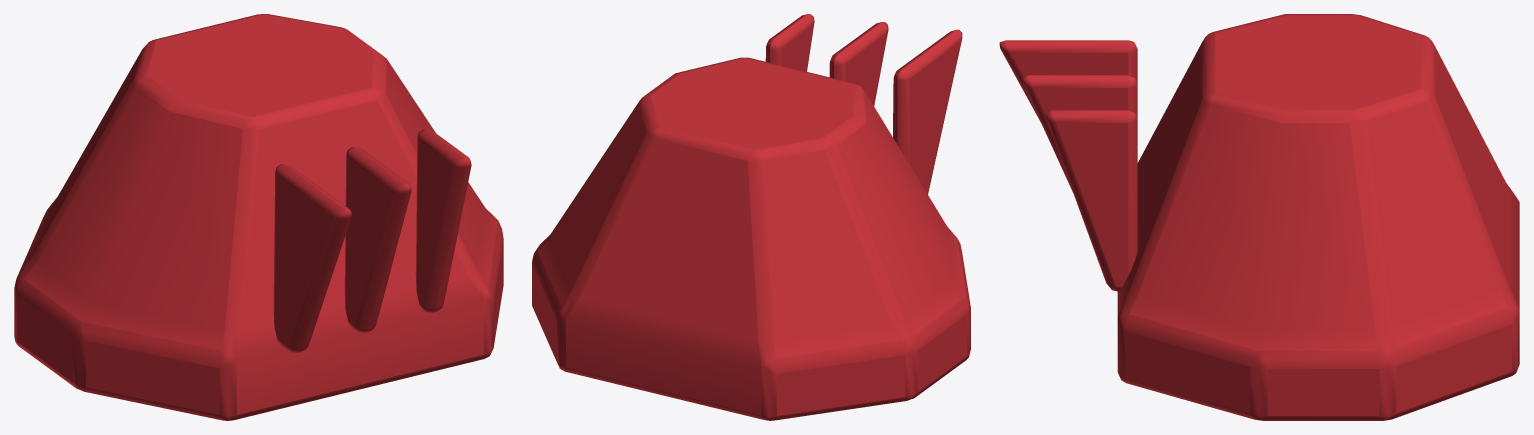
The model's file is AnimalHeadBack_Set05_Afterburn.fbx.
3 views of the same model, side by side, from view 1: azimuth 30°, elevation 25°; view 2: azimuth 150°, elevation 25°; view 3: azimuth 270°, elevation 25° (orthographic). The views are drawn at different scales.
Parts seen in each view (by area): view 1: AnimalHeadBack_Set05_Afterburn; view 2: AnimalHeadBack_Set05_Afterburn; view 3: AnimalHeadBack_Set05_Afterburn.
Part boxes in pixels (<box>): AnimalHeadBack_Set05_Afterburn: <box>14,14,503,420</box>; AnimalHeadBack_Set05_Afterburn: <box>532,14,970,420</box>; AnimalHeadBack_Set05_Afterburn: <box>999,14,1519,420</box>.
Bounding box in the file's own units: 0.42 × 0.24 × 0.4399.
